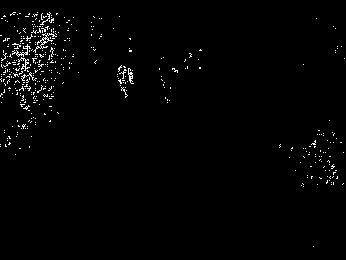person: (114, 64, 135, 99)
